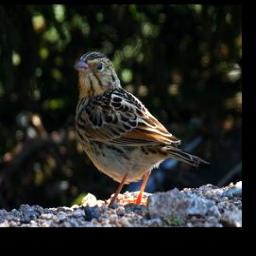Sparrow: (67, 44, 213, 209)
